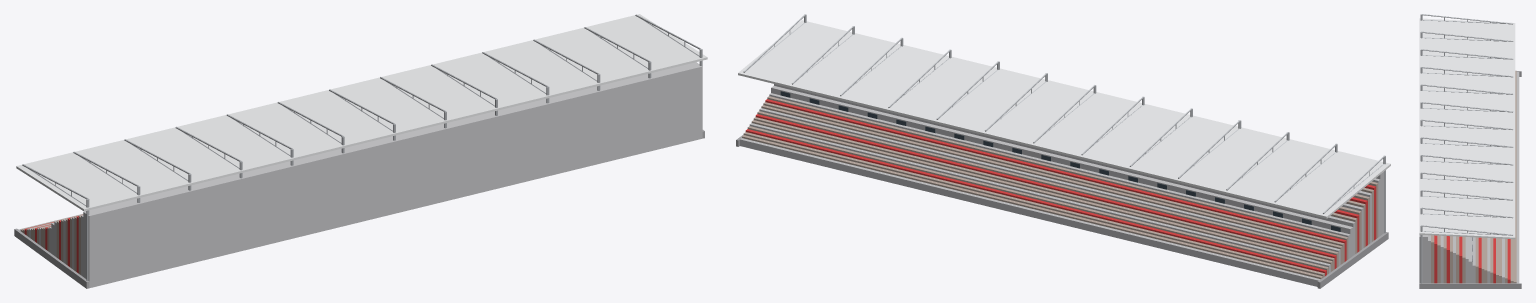
File: barcelona_grandstand.glb
3 views of the same model, side by side, from view 1: azimuth 30°, elevation 25°; view 2: azimuth 150°, elevation 25°; view 3: azimuth 270°, elevation 25° (orthographic). The views are drawn at different scales.
Parts seen in each view (by area): view 1: stand, roof; view 2: stand, roof; view 3: roof, stand.
Boxes of the visible parts, bbox=[...] form: stand: bbox=[14, 62, 704, 288]; roof: bbox=[16, 14, 707, 280]; stand: bbox=[736, 84, 1388, 288]; roof: bbox=[738, 14, 1390, 233]; roof: bbox=[1419, 14, 1515, 283]; stand: bbox=[1419, 70, 1521, 288].
Size of the model in its own units: 244 by 33.28 by 49.01.
